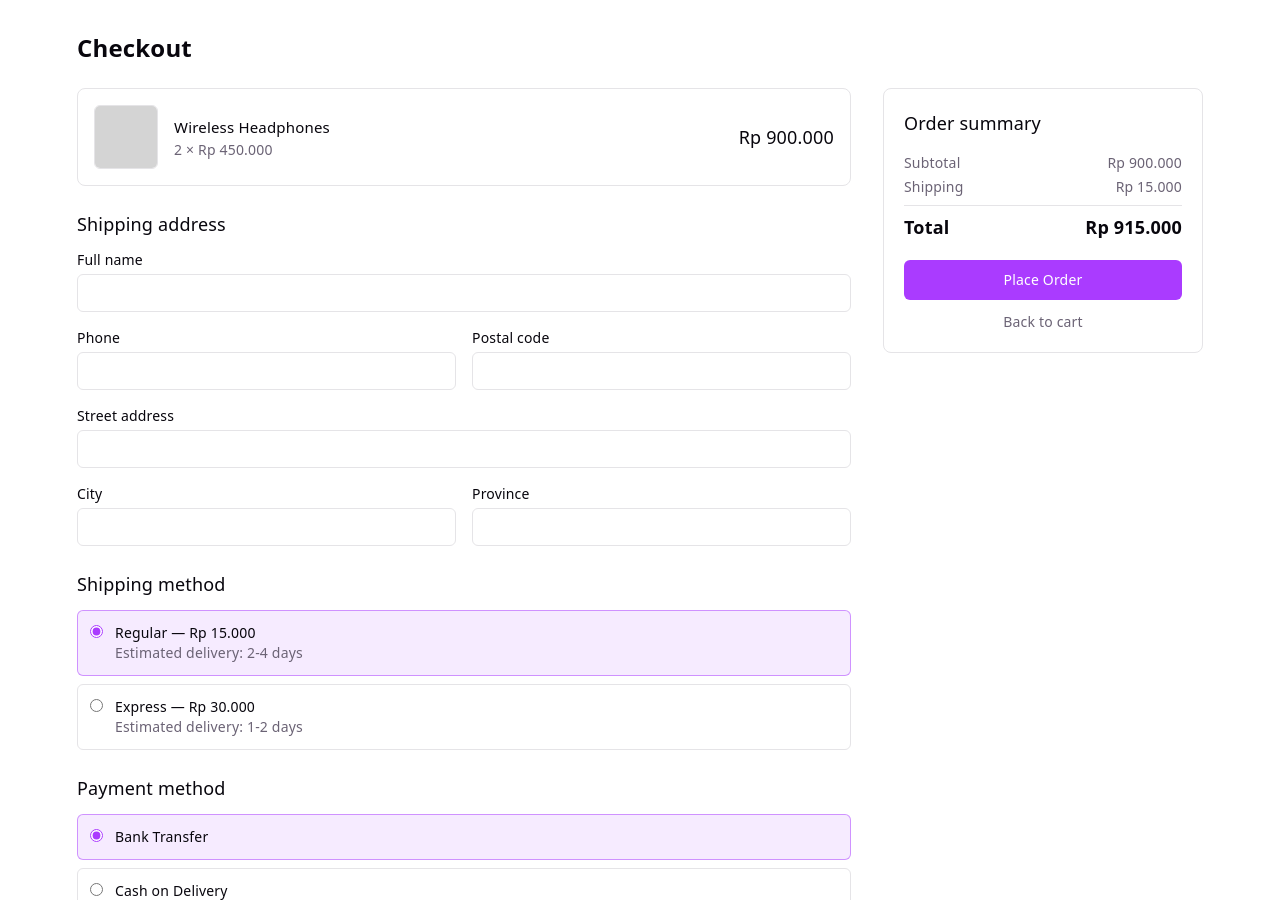
Test: CheckoutPage › updates the shipping cost and total when a different shipping option is chosen
Check: the text "Wireless Headphones" is shown, box [174,117,330,137]
Click the text "Express — Rp 30.000": {"x": 185, "y": 706} [115,697,255,716]
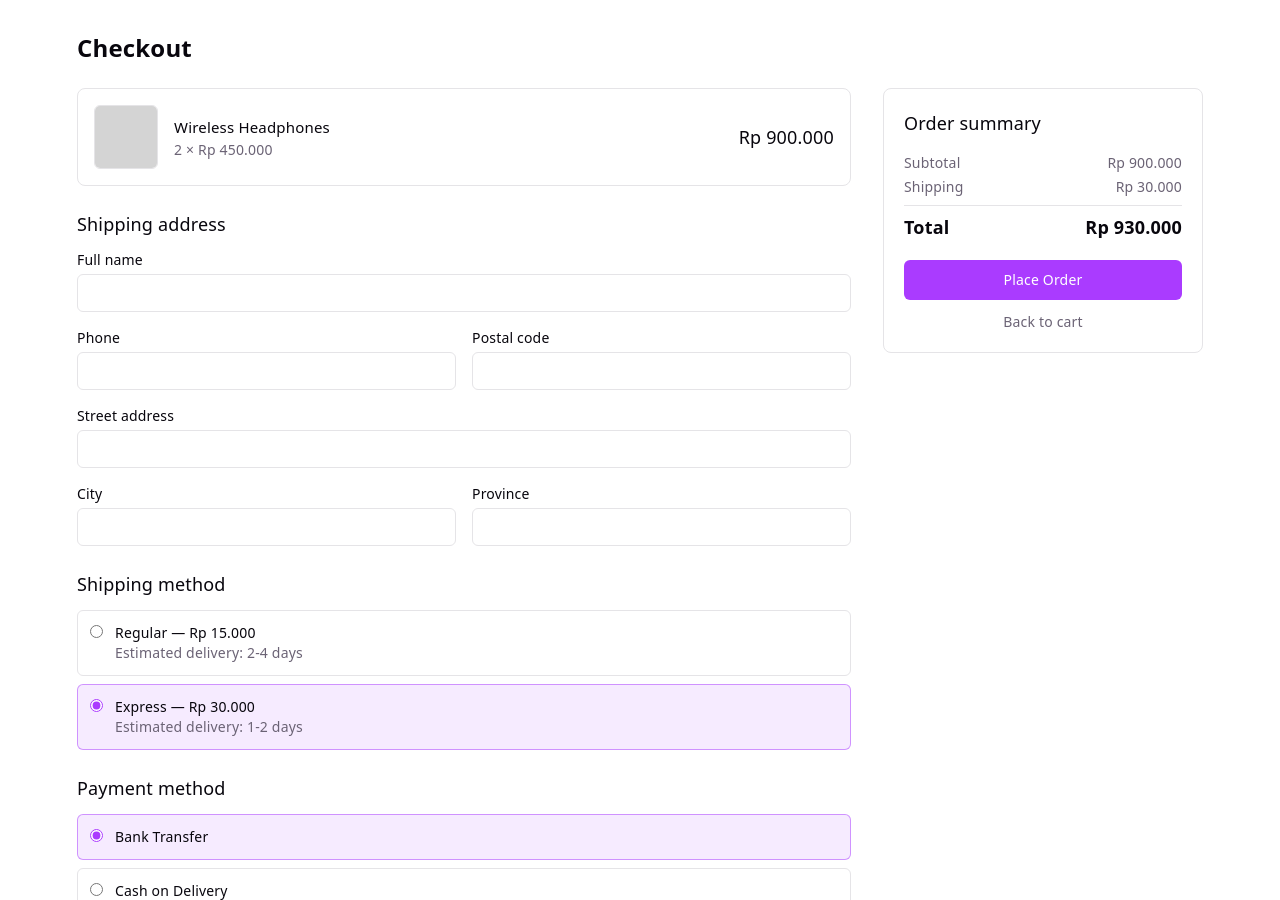
Check: the text "Rp 930.000" is shown, box [1085,214,1182,240]
